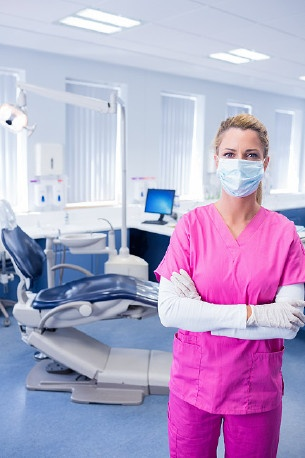Mask: (218, 144, 269, 196)
